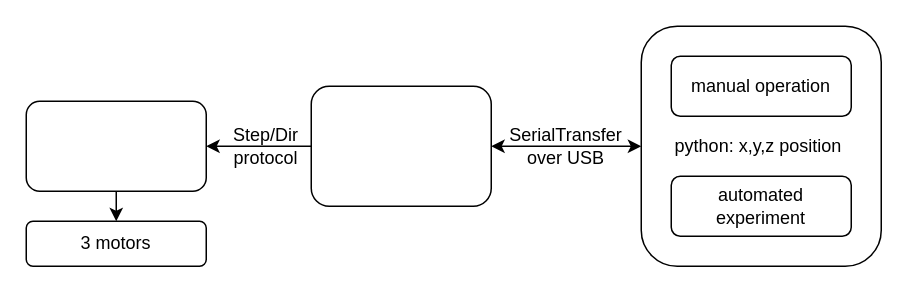
This 908x293 diagram has some shape labels left out. Each missing label, with the centre of its shape:
"arduino compatible microcontroller: translation to kinematic movement" goes at pixel 400 145.
"stepper motor driver" goes at pixel 115 145.
